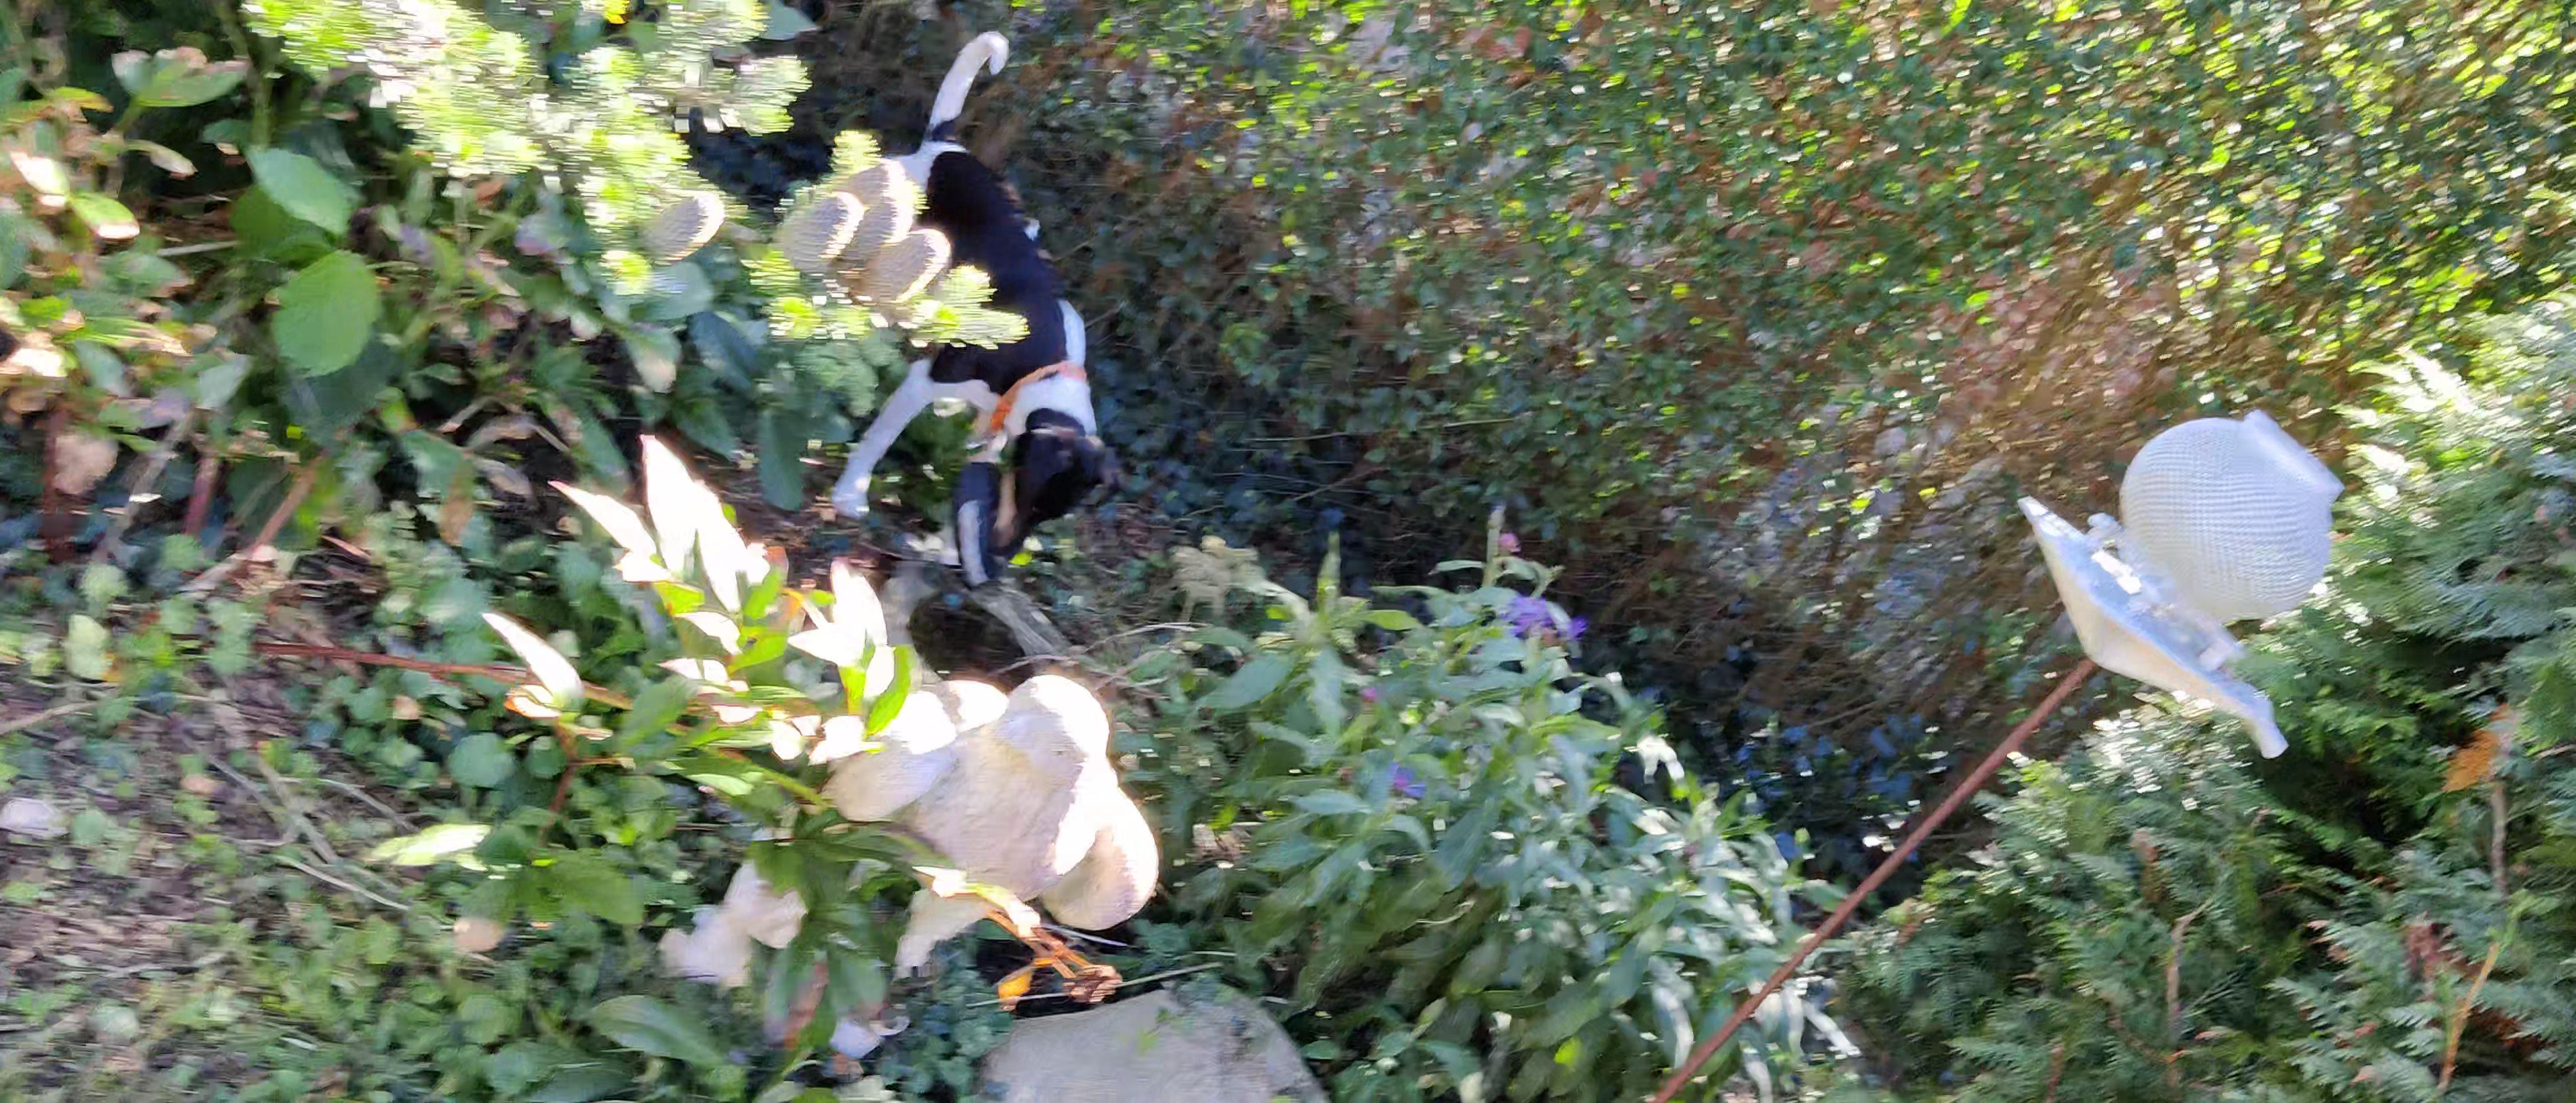Dog: (826, 28, 1130, 557)
